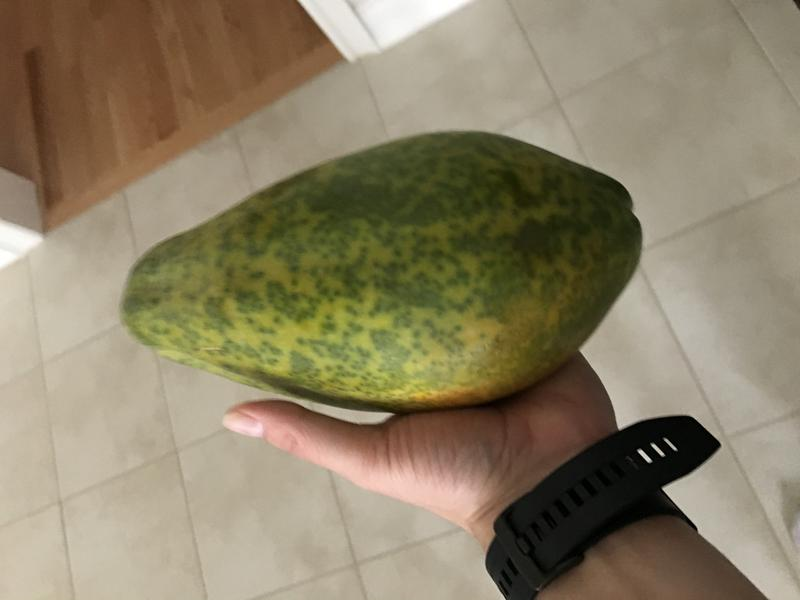papaya: (108, 124, 658, 422)
